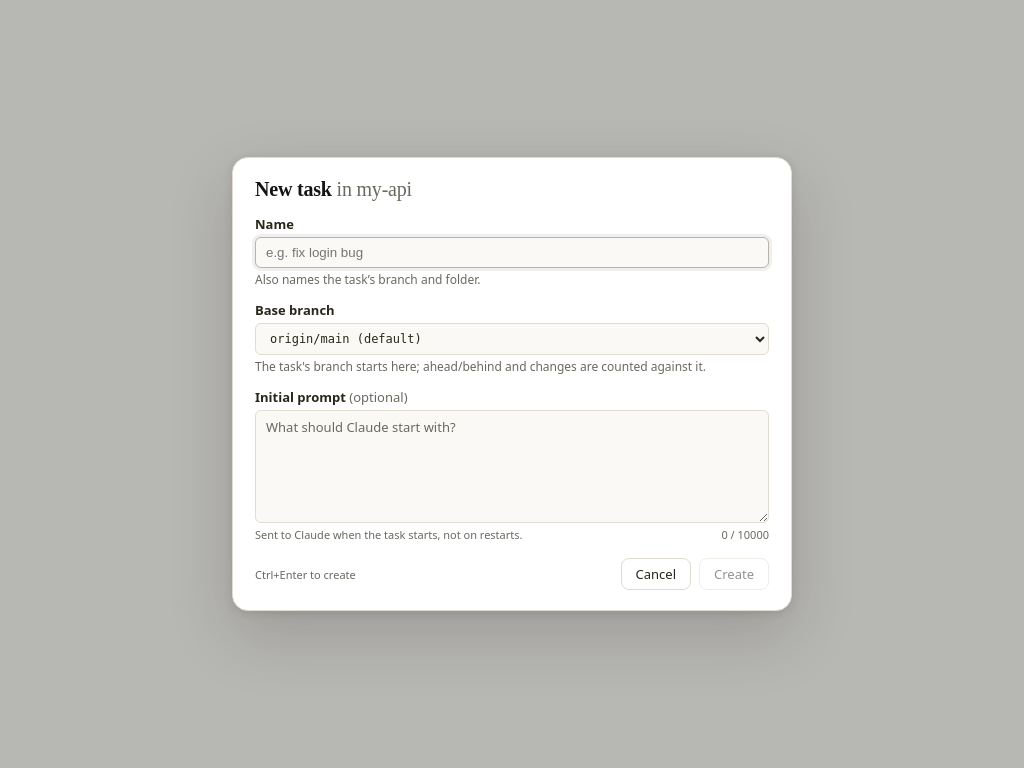
it: NewTaskDialog while creating › doesn't close on Esc, as Cancel doesn't: a creation that fails keeps what was typed
Type keys "fix it"
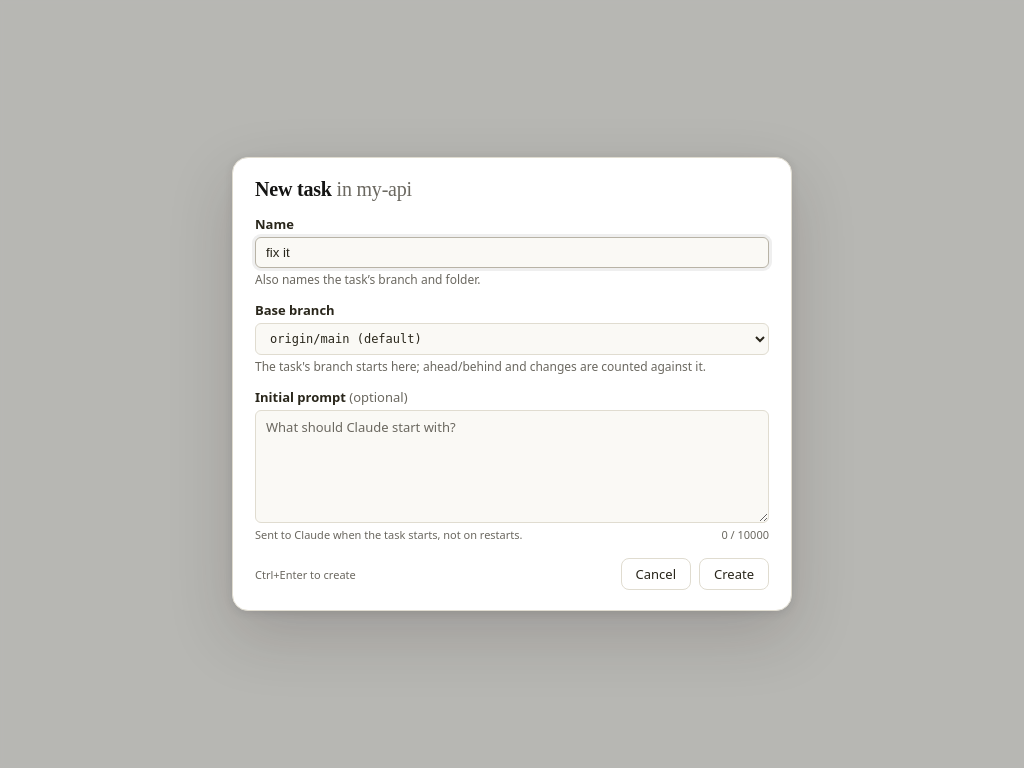
Type "Do the thing" into the text box labelled "Initial prompt (optional)". click: (512, 466)
box: left=255, top=410, right=769, bottom=523
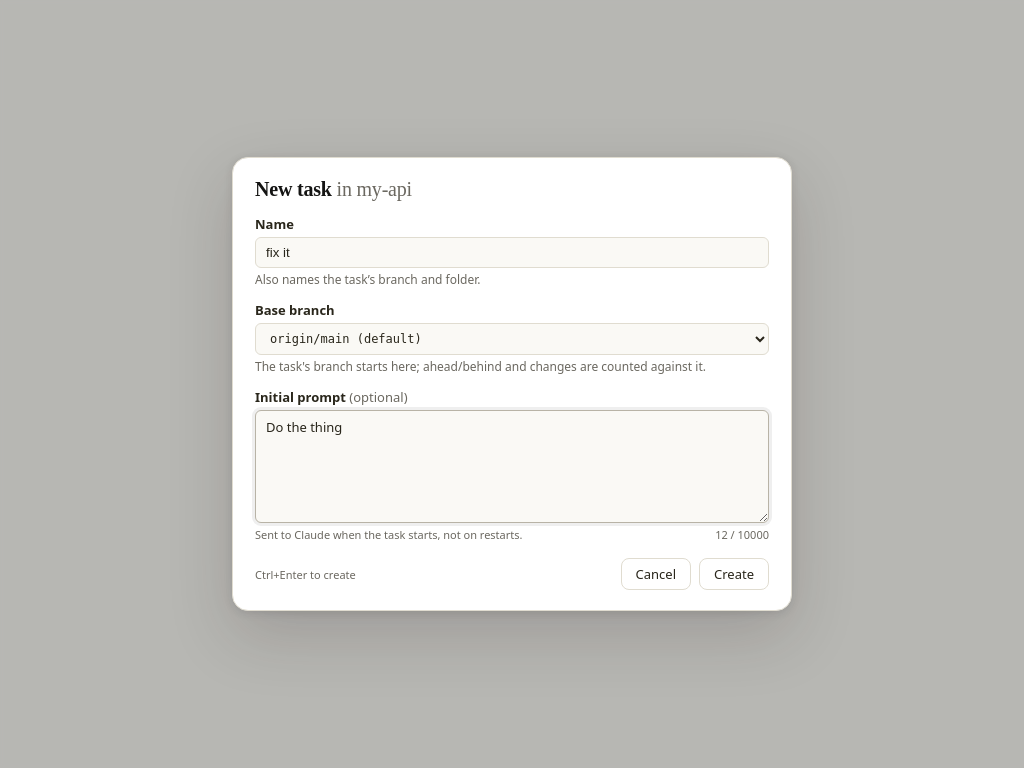
Click the button "Create". click: (734, 574)
box: left=699, top=558, right=769, bottom=590
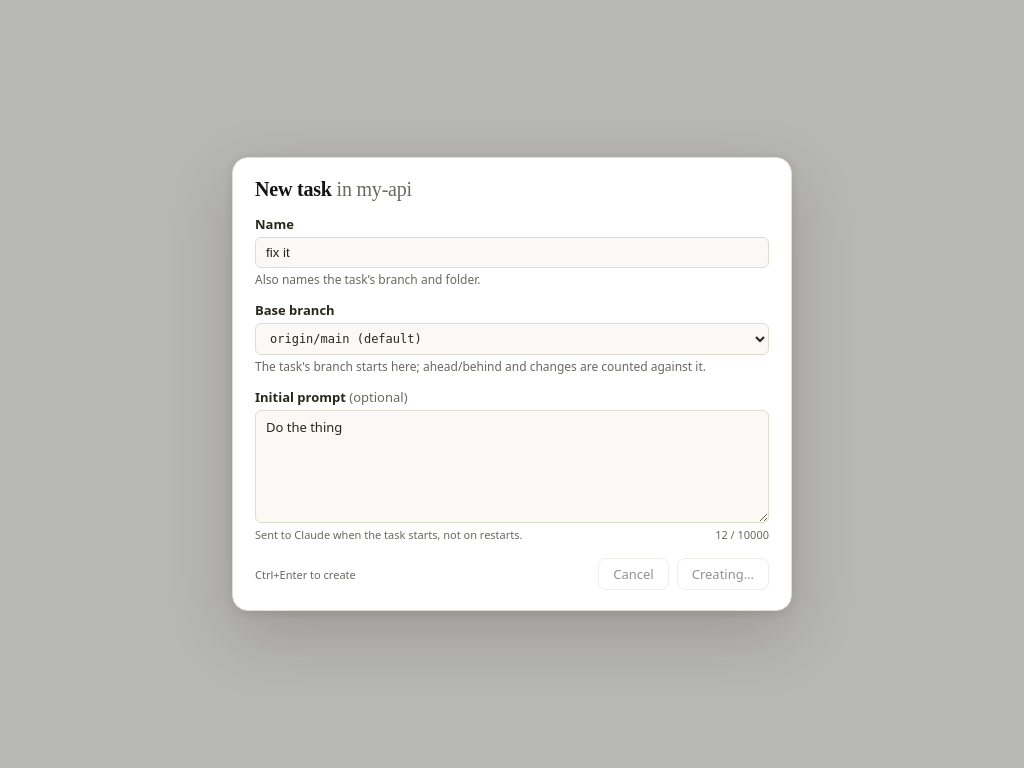
Expected: the button "Creating…" is disabled, left=677, top=558, right=769, bottom=590
Click the field labelled "Name". click: (512, 252)
box: left=255, top=237, right=769, bottom=268
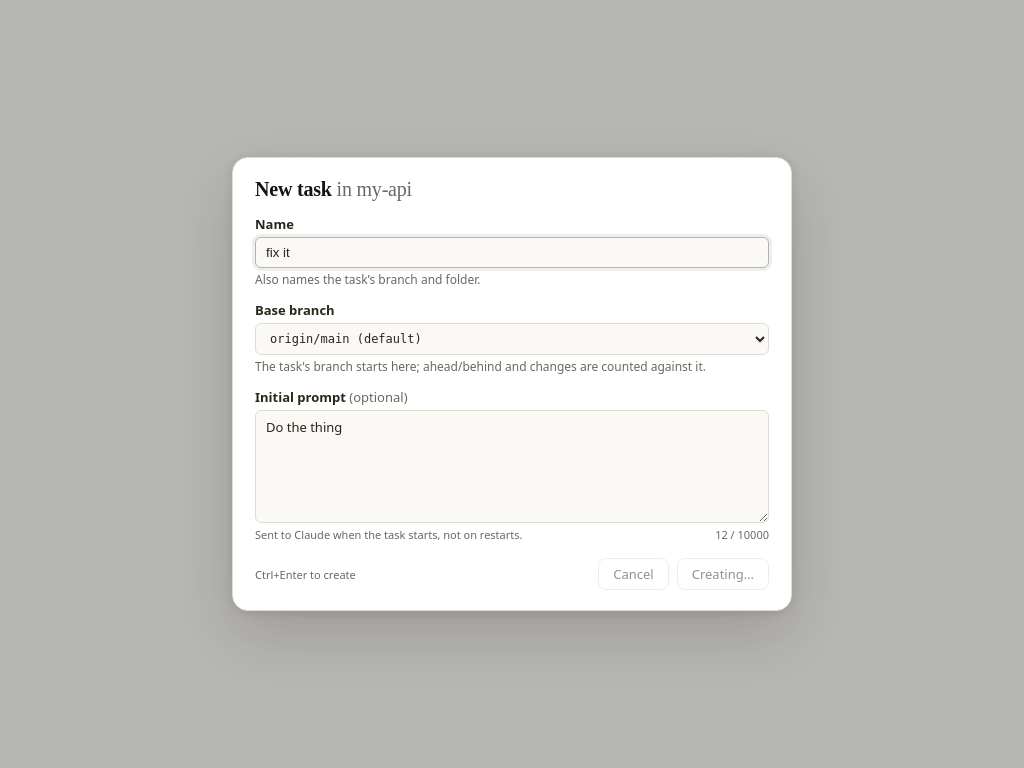
Press Escape Escape
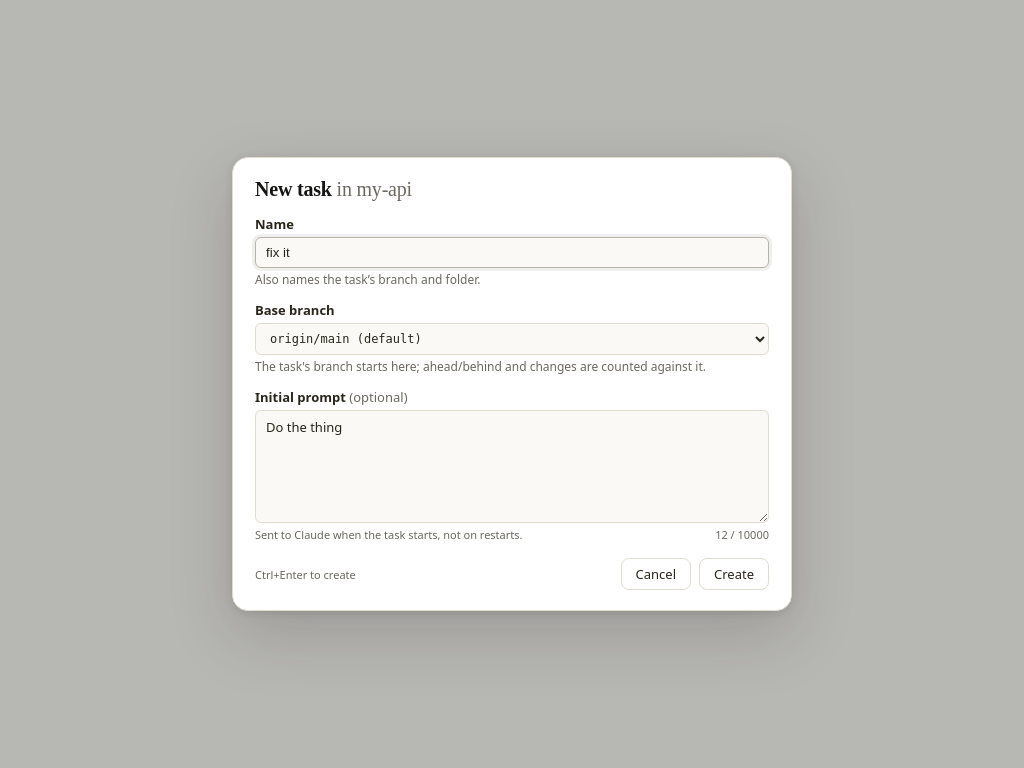
Expected: the button "Create" is enabled, left=699, top=558, right=769, bottom=590
